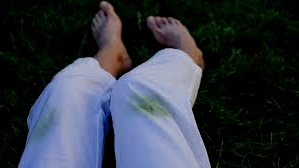earth: (138, 96, 165, 113)
